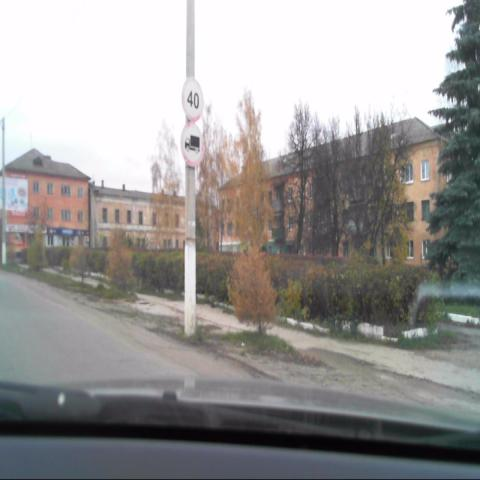3_4_1: (182, 123, 205, 164)
